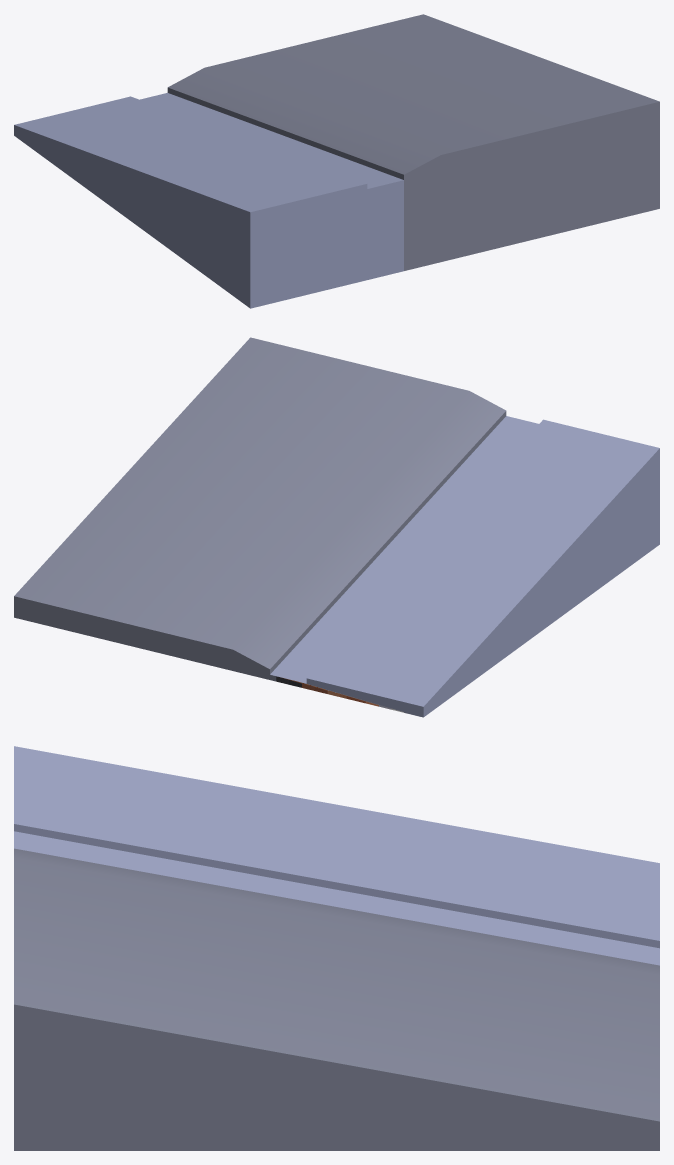
Rendered from road-edge-slope.glb.
The picture shows the model from 3 angles, top to bottom: view 1: azimuth 30°, elevation 25°; view 2: azimuth 150°, elevation 25°; view 3: azimuth 270°, elevation 25°; orthographic projection. The views are drawn at different scales.
Visible parts, largest first — view 1: road-edge-slope; view 2: road-edge-slope; view 3: road-edge-slope.
Boxes of the visible parts, bbox=[...] form: road-edge-slope: bbox=[14, 14, 659, 308]; road-edge-slope: bbox=[14, 337, 659, 717]; road-edge-slope: bbox=[14, 746, 659, 1150].
Size of the model in its own units: 1 by 0.25 by 1.
Materials: 1 (1 with a texture image).
